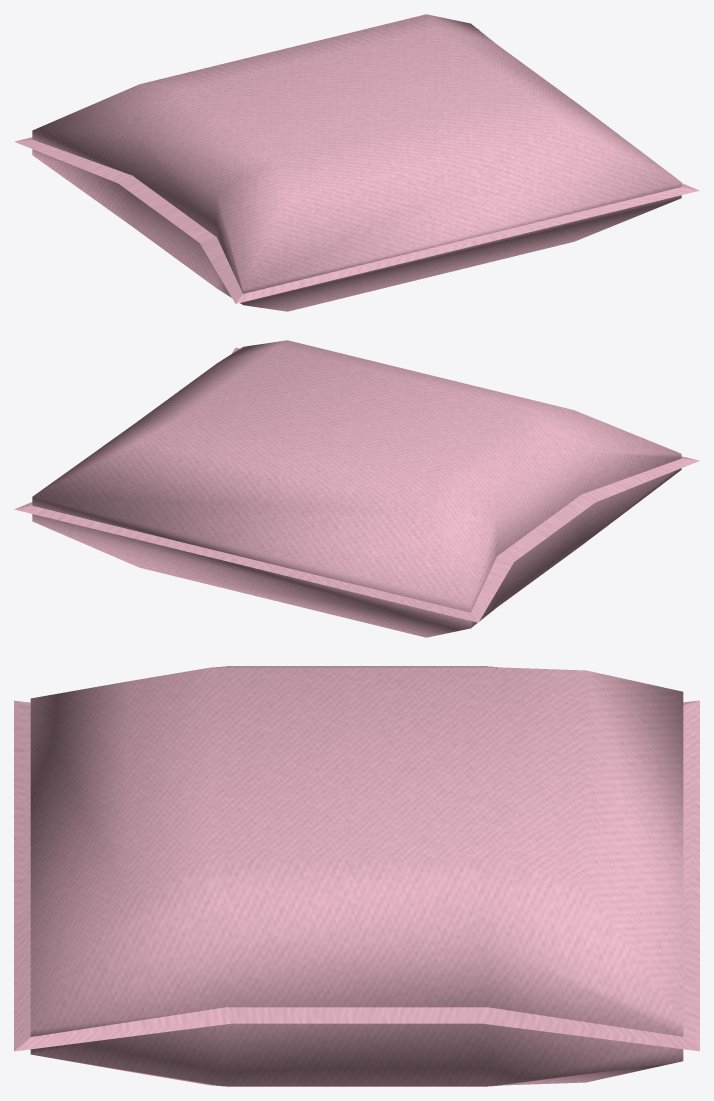
File: T_Pillow_J2.FBX
The picture shows the model from 3 angles, top to bottom: view 1: azimuth 30°, elevation 25°; view 2: azimuth 150°, elevation 25°; view 3: azimuth 270°, elevation 25°; orthographic projection. The views are drawn at different scales.
Visible parts, largest first — view 1: Throw_Pillow; view 2: Throw_Pillow; view 3: Throw_Pillow.
Boxes of the visible parts, <box> form: Throw_Pillow: <box>14,14,699,311</box>; Throw_Pillow: <box>14,340,699,637</box>; Throw_Pillow: <box>14,666,699,1086</box>.
Bounding box in the file's own units: 127 × 37.95 × 105.
